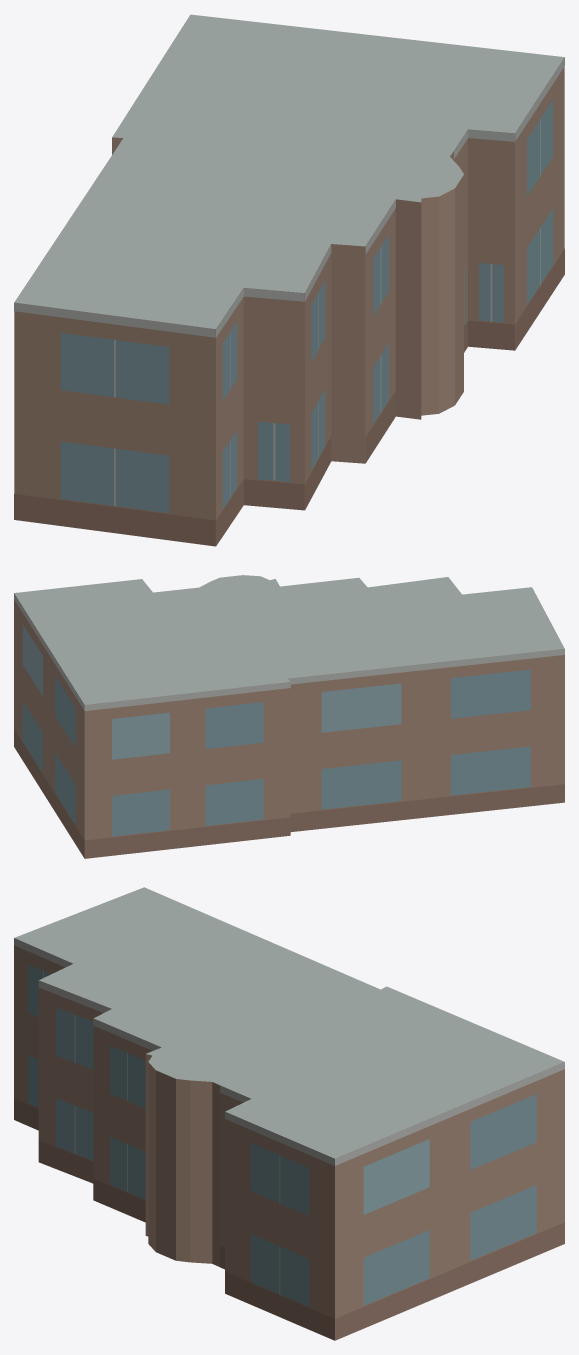
The model's file is survey-upis-32523972.glb.
3 renders of one model, top to bottom at view 1: azimuth 30°, elevation 25°; view 2: azimuth 150°, elevation 25°; view 3: azimuth 270°, elevation 25°, orthographic. The views are drawn at different scales.
Visible parts, largest first — view 1: survey-upis-32523972.tmp; view 2: survey-upis-32523972.tmp; view 3: survey-upis-32523972.tmp.
Part boxes in pixels (left/top/right/bottom): survey-upis-32523972.tmp: left=14, top=14, right=564, bottom=546; survey-upis-32523972.tmp: left=14, top=575, right=564, bottom=858; survey-upis-32523972.tmp: left=14, top=887, right=564, bottom=1340.
Bounding box in the file's own units: 19.53 × 6.1 × 16.74.
